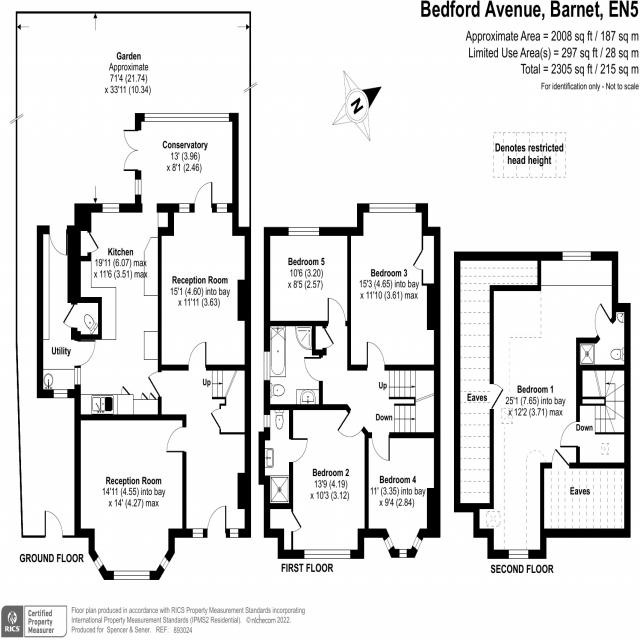DOOR: (336, 408, 365, 438), (594, 302, 613, 340), (207, 505, 227, 538), (74, 339, 96, 367), (194, 181, 213, 213), (49, 225, 68, 257), (371, 432, 390, 462), (366, 341, 385, 371), (188, 341, 207, 371), (560, 420, 580, 448), (327, 297, 346, 326), (166, 426, 186, 453), (304, 356, 323, 382), (289, 438, 308, 463), (489, 382, 504, 411), (147, 370, 162, 398), (551, 447, 570, 469), (62, 303, 77, 329)
ROOM: (473, 251, 618, 559), (67, 203, 174, 421), (74, 414, 187, 581), (158, 181, 251, 371), (264, 404, 369, 559), (347, 203, 441, 371), (364, 432, 441, 558), (264, 227, 351, 327)
WINDOW: (369, 202, 416, 213), (304, 549, 351, 559), (113, 570, 150, 581), (288, 226, 320, 236), (562, 251, 591, 261), (508, 549, 529, 559), (412, 535, 423, 552), (264, 351, 270, 381), (102, 203, 120, 213), (159, 555, 170, 571), (384, 535, 394, 552), (93, 556, 104, 571), (53, 389, 68, 399), (74, 367, 81, 386), (216, 203, 228, 213), (192, 528, 203, 538), (179, 203, 190, 213), (229, 528, 239, 538), (264, 414, 270, 428), (399, 549, 407, 558)
